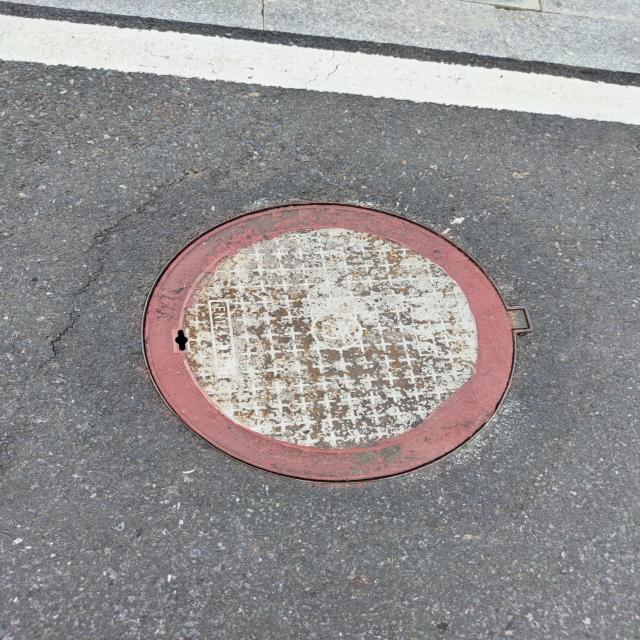Good: (131, 198, 538, 489)
